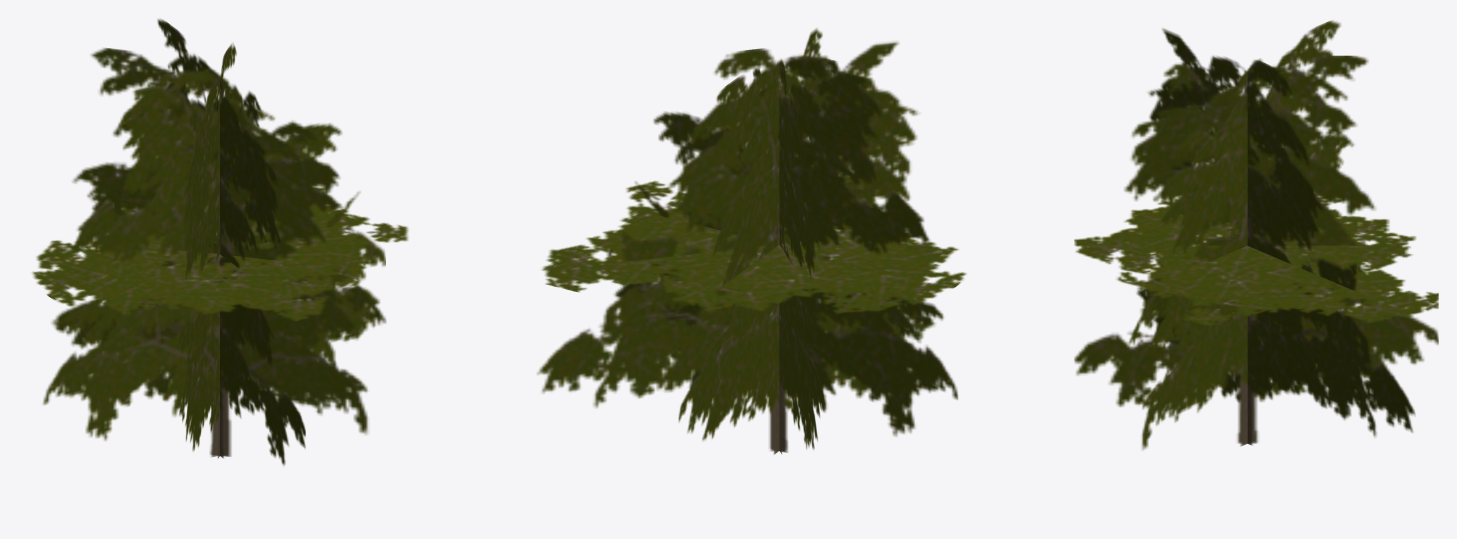
File: maple_acer_medium_1_billboard.gltf
3 views of the same model, side by side, from view 1: azimuth 30°, elevation 25°; view 2: azimuth 150°, elevation 25°; view 3: azimuth 270°, elevation 25° (orthographic). The views are drawn at different scales.
Parts seen in each view (by area): view 1: Acer_medium_1_Billboard_LOD3_Acer_medium_1_Billboard_Mat_0; view 2: Acer_medium_1_Billboard_LOD3_Acer_medium_1_Billboard_Mat_0; view 3: Acer_medium_1_Billboard_LOD3_Acer_medium_1_Billboard_Mat_0.
Part boxes in pixels (box(x1,y1,x2,y2)): Acer_medium_1_Billboard_LOD3_Acer_medium_1_Billboard_Mat_0: box(32, 19, 408, 465); Acer_medium_1_Billboard_LOD3_Acer_medium_1_Billboard_Mat_0: box(537, 28, 966, 454); Acer_medium_1_Billboard_LOD3_Acer_medium_1_Billboard_Mat_0: box(1074, 20, 1438, 449).
Bounding box in the file's own units: 11.41 × 12.36 × 10.62.
Materials: 1 (1 with a texture image).
